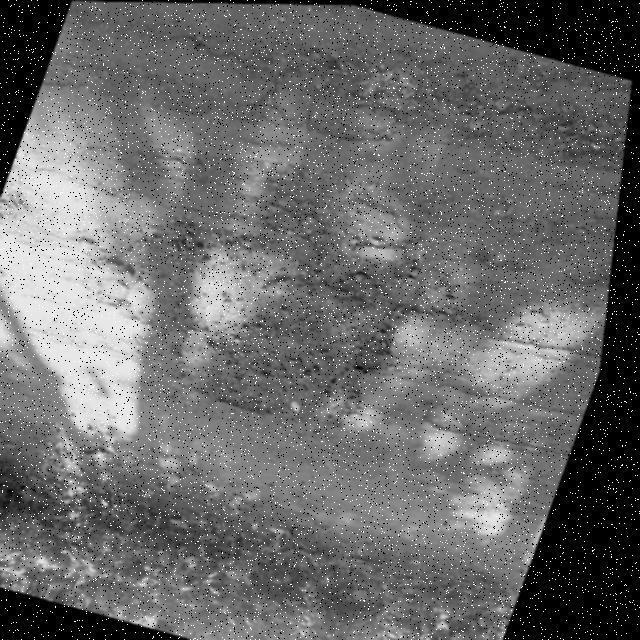pothole: (41, 144, 490, 456)
